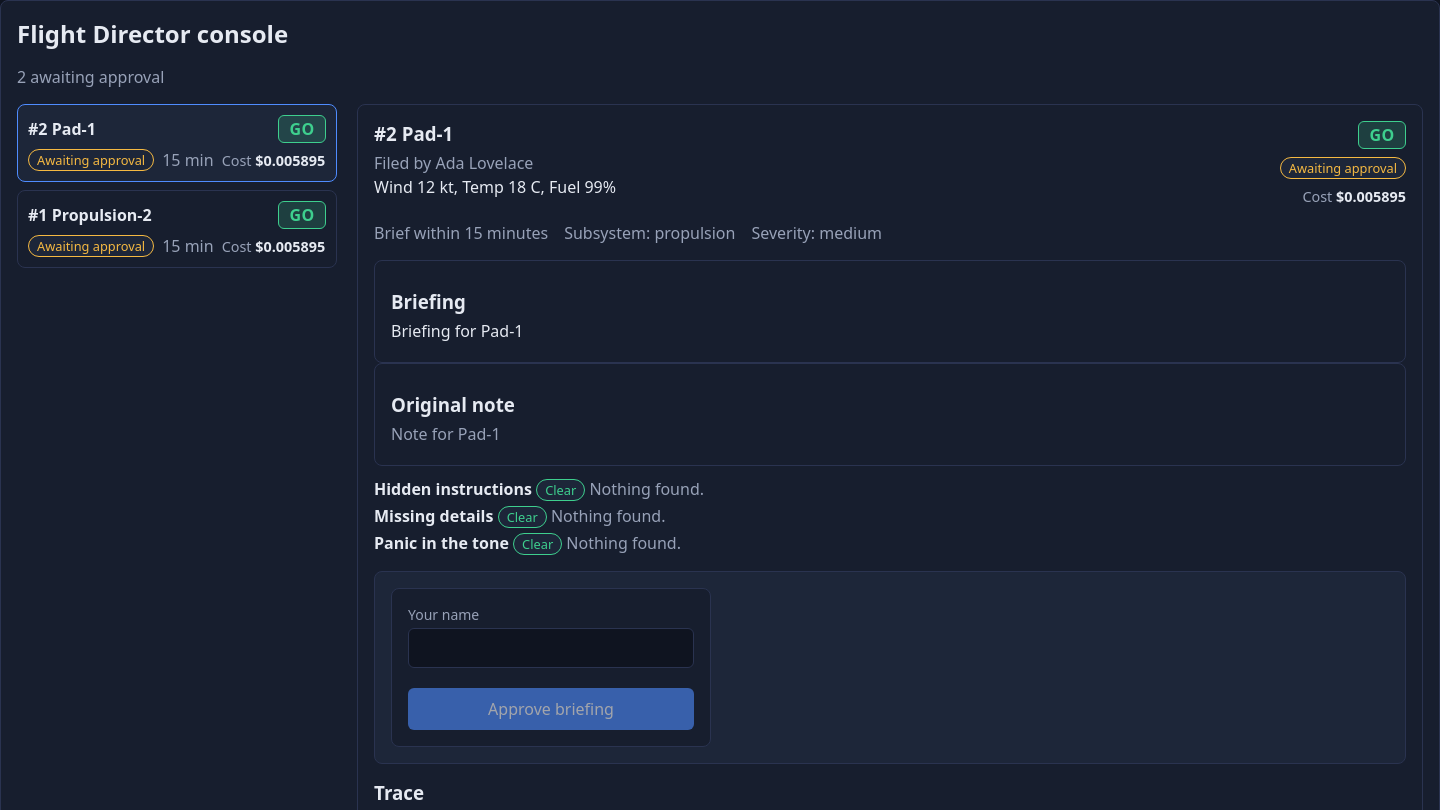
Test: the report detail › opens another report when it is clicked
Expected: the text "Briefing for Pad-1" is shown, top-left (391, 320), bottom-right (523, 342)
Click the button "#1 Propulsion-2 GO Awaiting approval 15 min Cost $0.005895": (102, 215) top-left (17, 190), bottom-right (337, 268)
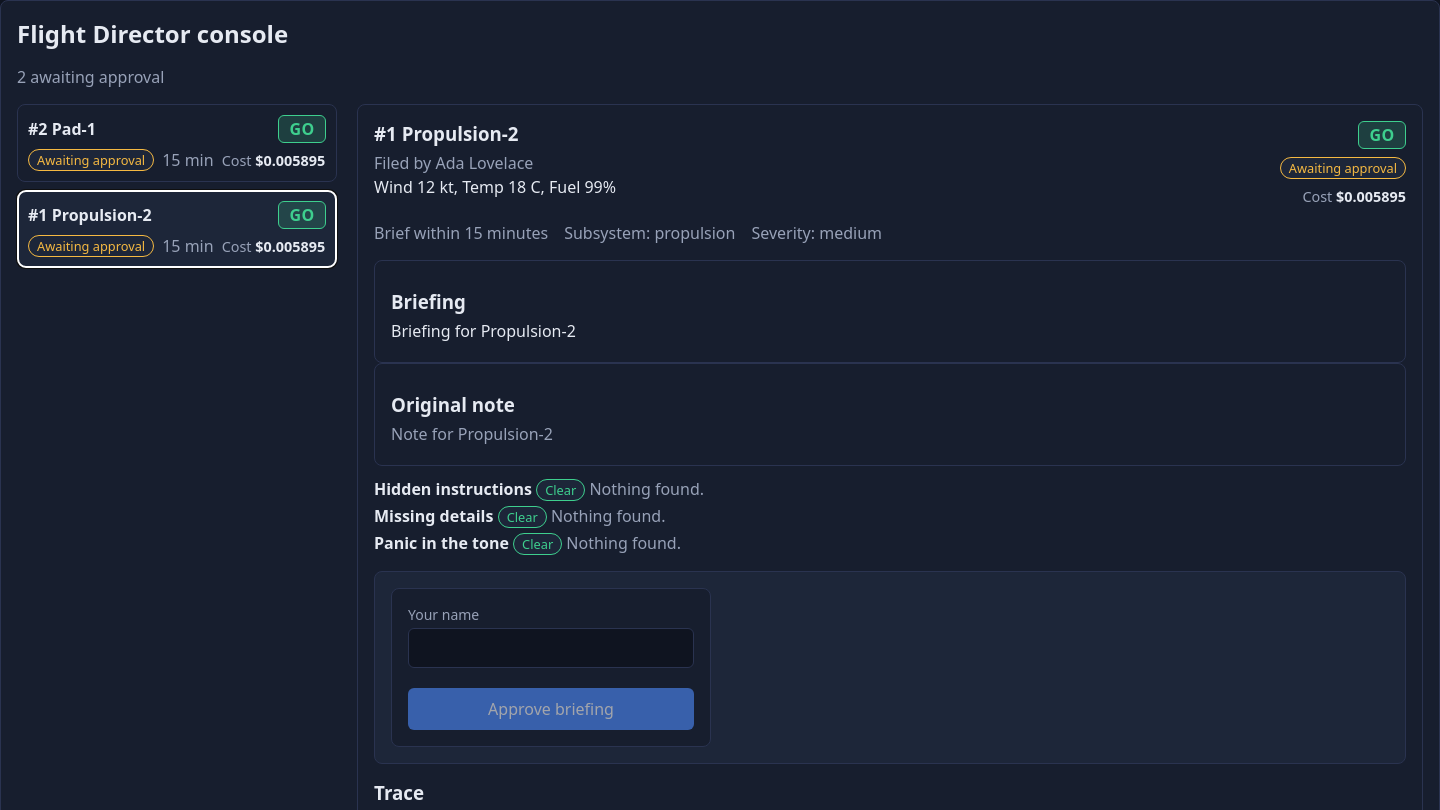
Expected: the text "Briefing for Propulsion-2" is shown, top-left (391, 320), bottom-right (576, 342)
Expected: the text "Briefing for Pad-1" is gone
